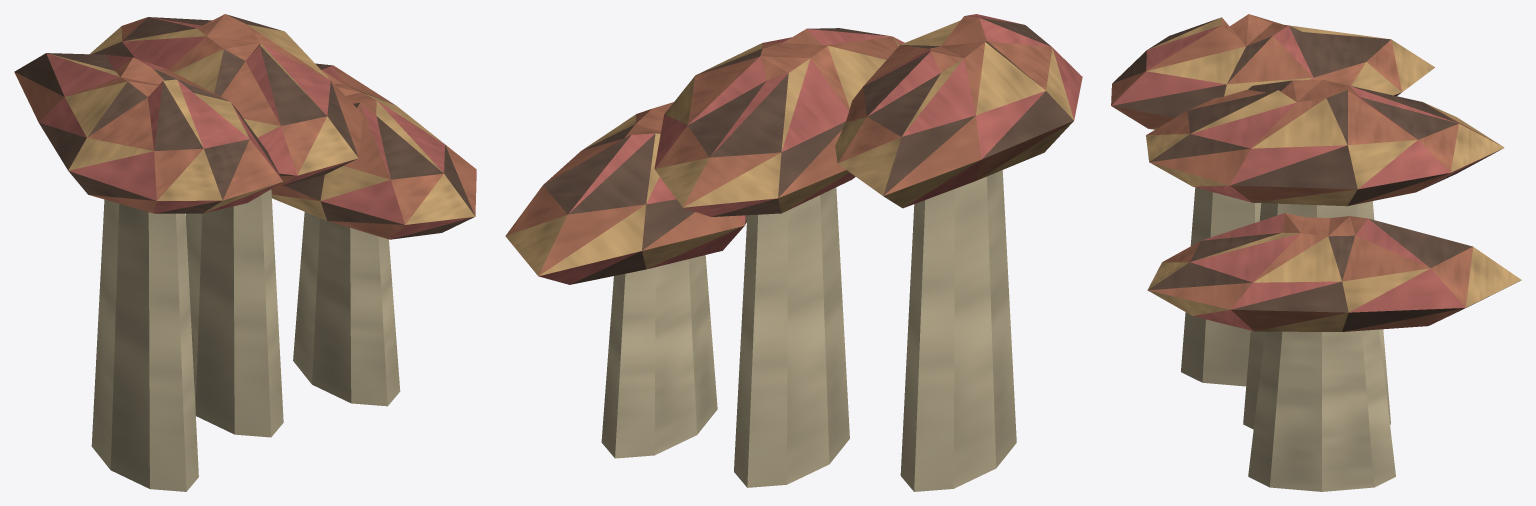
File: mushroom_giant_01.fbx
3 views of the same model, side by side, from view 1: azimuth 30°, elevation 25°; view 2: azimuth 150°, elevation 25°; view 3: azimuth 270°, elevation 25° (orthographic). The views are drawn at different scales.
Visible parts, largest first — view 1: mushroom_giant_01; view 2: mushroom_giant_01; view 3: mushroom_giant_01.
Part boxes in pixels (box(x1,y1,x2,y2)): mushroom_giant_01: box(14, 14, 476, 491); mushroom_giant_01: box(505, 14, 1082, 491); mushroom_giant_01: box(1111, 14, 1521, 491).
Bounding box in the file's own units: 218 × 200 × 210.
1 material, 1 textured.
